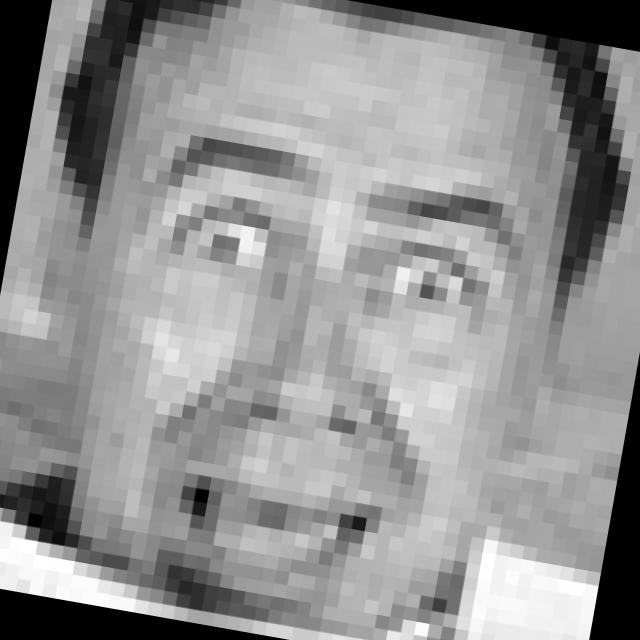fear: (79, 114, 541, 640)
